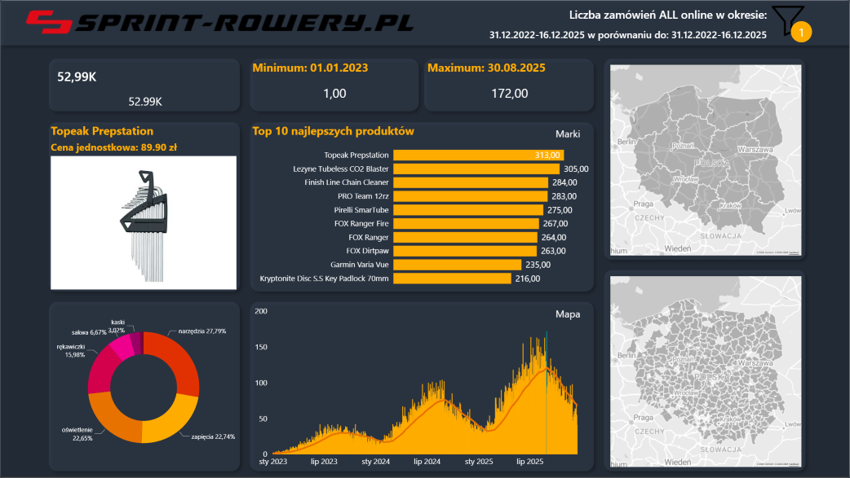

The dashboard page shown, as its layout file describes it:
{"tool":"powerbi","page":{"name":"Sales","canvas":[1600,900],"ordinal":0},"visuals":[{"type":"actionButton","title":"ShowButton","box":[1450,3,70,70],"z":0,"group":"g1"},{"type":"card","title":"Całkowita sprzedaż poprzedni okres","fields":{"Values":["_mesures.selectedLabelPast"]},"box":[90,171,360,40],"z":0,"group":"g2"},{"type":"azureMap","fields":{"Category":["dim_address.Location.powiat"]},"box":[1145,515,370,370],"z":0},{"type":"shape","title":"FilterCount","box":[1490,38,40,40],"z":1000,"group":"g1"},{"type":"cardVisual","fields":{"Data":["_mesures.selectedLimitDate"]},"box":[90,111,360,60],"z":1000,"group":"g2"},{"type":"lineStackedColumnComboChart","fields":{"Category":["dim_date.Date"],"Y":["_mesures.selectedLimitDate"],"Y2":["_mesures.selectedMA_limitDate"]},"box":[470,570,650,320],"z":1000},{"type":"actionButton","title":"mapButton","box":[1020,570,100,40],"z":3000},{"type":"donutChart","fields":{"Category":["dim_products.Product.Category","dim_products.Product.Subcategory","dim_products.Product.Model"],"Y":["_mesures.selectedLimitDate"]},"box":[90,570,360,320],"z":5000},{"type":"azureMap","fields":{"Category":["dim_address.Location.wojewodztwo"]},"box":[1145,116,370,370],"z":6000},{"type":"barChart","title":"Top 10 najlepszych marek","fields":{"Category":["dim_products.Brand"],"Y":["_mesures.selectedLimitDate"]},"box":[470,230,650,320],"z":7000},{"type":"actionButton","title":"productButton","box":[1020,230,100,40],"z":10000},{"type":"cardVisual","fields":{"Data":["_Mesures.bestProduct"]},"box":[90,230,360,320],"z":11000},{"type":"card","fields":{"Values":["_mesures.selectedLimitDate_min"]},"box":[470,111,320,100],"z":12000},{"type":"card","fields":{"Values":["_mesures.selectedLimitDate_max"]},"box":[800,111,320,100],"z":13000},{"type":"cardVisual","fields":{"Data":["_mesures.selectedTitle","_mesures.dateRangeTitle"]},"box":[850,3,600,80],"z":14000},{"type":"group","id":"g1","title":"FilterButton","box":[1450,3,80,75],"z":15000},{"type":"group","id":"g2","title":"KPI","box":[90,111,360,100],"z":17000}]}

Visuals, with their boxes in screenshot pixels (x1, y1, x2, y2), scaled from the page's 1600x900 canvas onto the 850x478 screenshot:
"ShowButton" actionButton: 770:2:808:39
"Całkowita sprzedaż poprzedni okres" card: 48:91:239:112
azureMap - dim_address.Location.powiat: 608:274:805:470
"FilterCount" shape: 792:20:813:41
cardVisual - _mesures.selectedLimitDate: 48:59:239:91
lineStackedColumnComboChart - dim_date.Date x _mesures.selectedLimitDate: 250:303:595:473
"mapButton" actionButton: 542:303:595:324
donutChart - dim_products.Product.Category x dim_products.Product.Subcategory: 48:303:239:473
azureMap - dim_address.Location.wojewodztwo: 608:62:805:258
"Top 10 najlepszych marek" barChart: 250:122:595:292
"productButton" actionButton: 542:122:595:143
cardVisual - _Mesures.bestProduct: 48:122:239:292
card - _mesures.selectedLimitDate_min: 250:59:420:112
card - _mesures.selectedLimitDate_max: 425:59:595:112
cardVisual - _mesures.selectedTitle x _mesures.dateRangeTitle: 452:2:770:44
"FilterButton" group: 770:2:813:41
"KPI" group: 48:59:239:112
